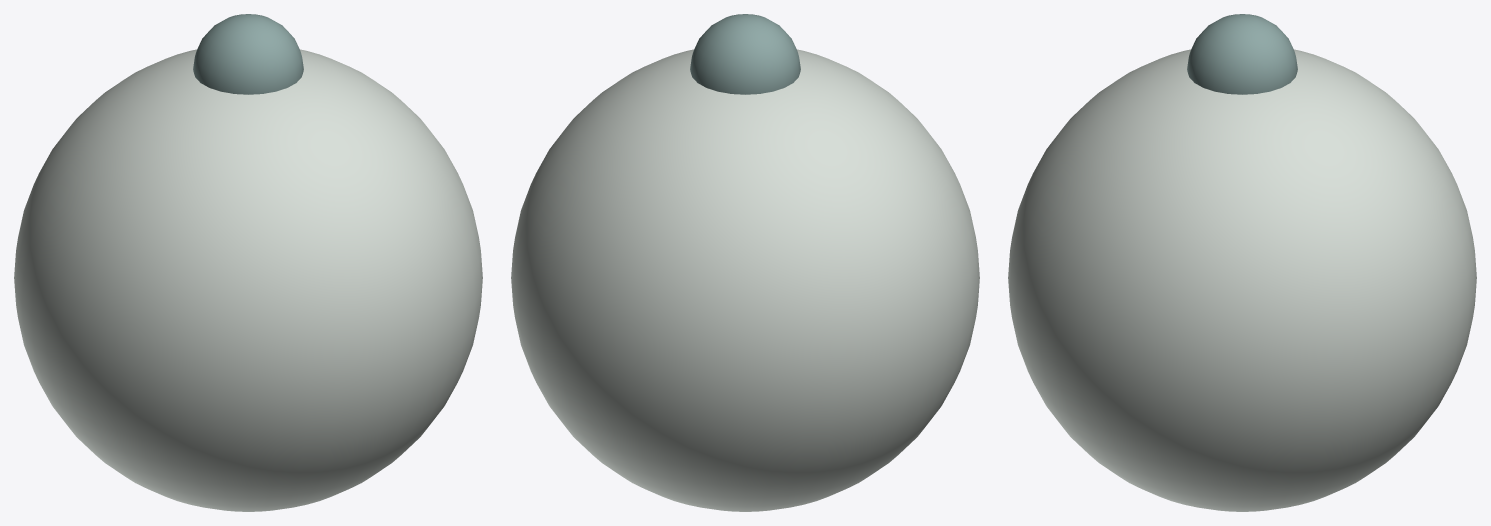
File: PP_Kit_GolfBall.fbx
3 views of the same model, side by side, from view 1: azimuth 30°, elevation 25°; view 2: azimuth 150°, elevation 25°; view 3: azimuth 270°, elevation 25° (orthographic).
Parts seen in each view (by area): view 1: KIT_GolfBall_044; view 2: KIT_GolfBall_044; view 3: KIT_GolfBall_044.
Boxes of the visible parts, <box> form: KIT_GolfBall_044: <box>14,14,482,511</box>; KIT_GolfBall_044: <box>511,14,979,511</box>; KIT_GolfBall_044: <box>1008,14,1476,511</box>.
Size of the model in its own units: 44 by 48.8 by 44.
